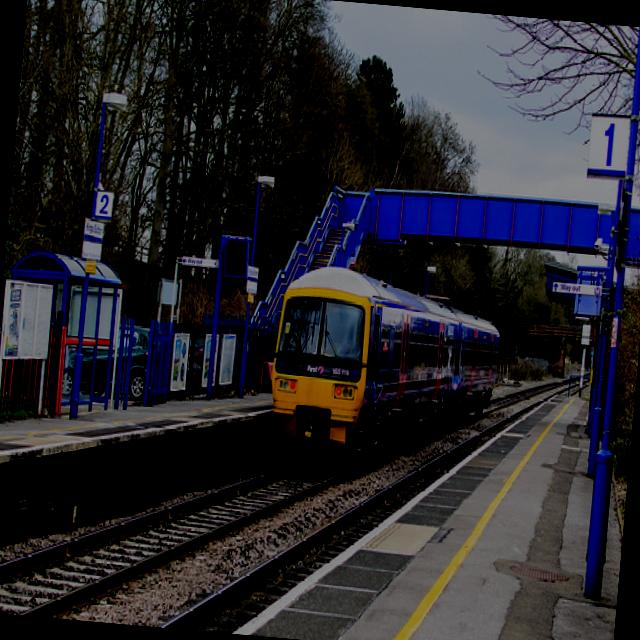Vehicle: (62, 321, 151, 403), (193, 341, 204, 365)
